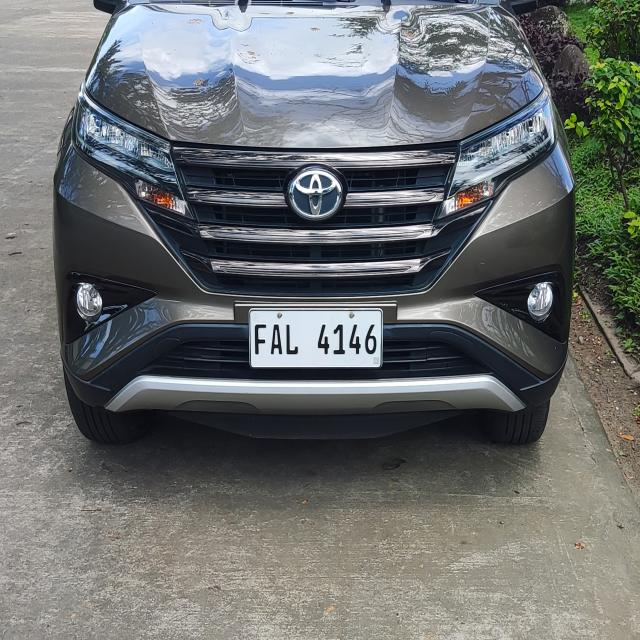plate: (247, 306, 384, 371)
